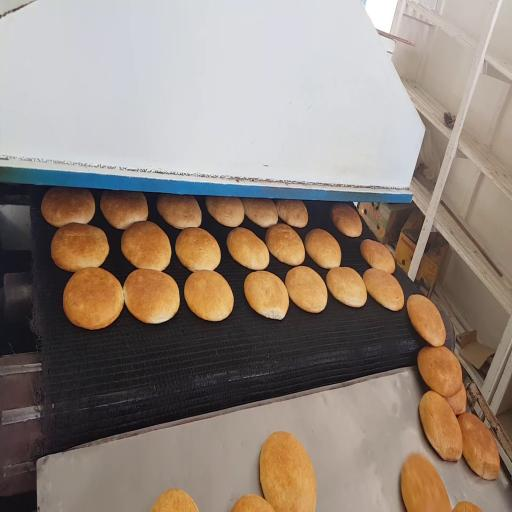bread: (260, 432, 316, 511), (63, 268, 123, 329), (123, 269, 179, 323), (419, 391, 462, 461), (401, 454, 451, 511), (51, 223, 109, 272), (458, 413, 500, 479), (184, 270, 233, 321), (121, 221, 171, 270), (418, 347, 462, 397), (244, 271, 289, 319), (42, 187, 95, 227), (407, 295, 445, 346), (175, 228, 220, 271), (285, 266, 327, 312), (100, 191, 148, 229), (227, 228, 269, 270), (363, 269, 404, 310), (326, 267, 367, 307), (266, 224, 305, 265), (157, 194, 201, 229), (304, 229, 341, 268), (360, 239, 395, 273), (206, 197, 244, 227), (331, 203, 362, 237), (242, 199, 278, 228), (151, 489, 198, 511), (275, 200, 308, 228), (232, 495, 274, 511), (446, 385, 466, 415), (453, 502, 482, 511)
